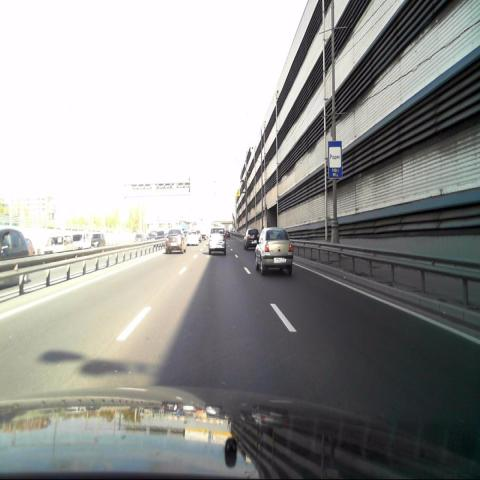7_15: (328, 142, 342, 179)
